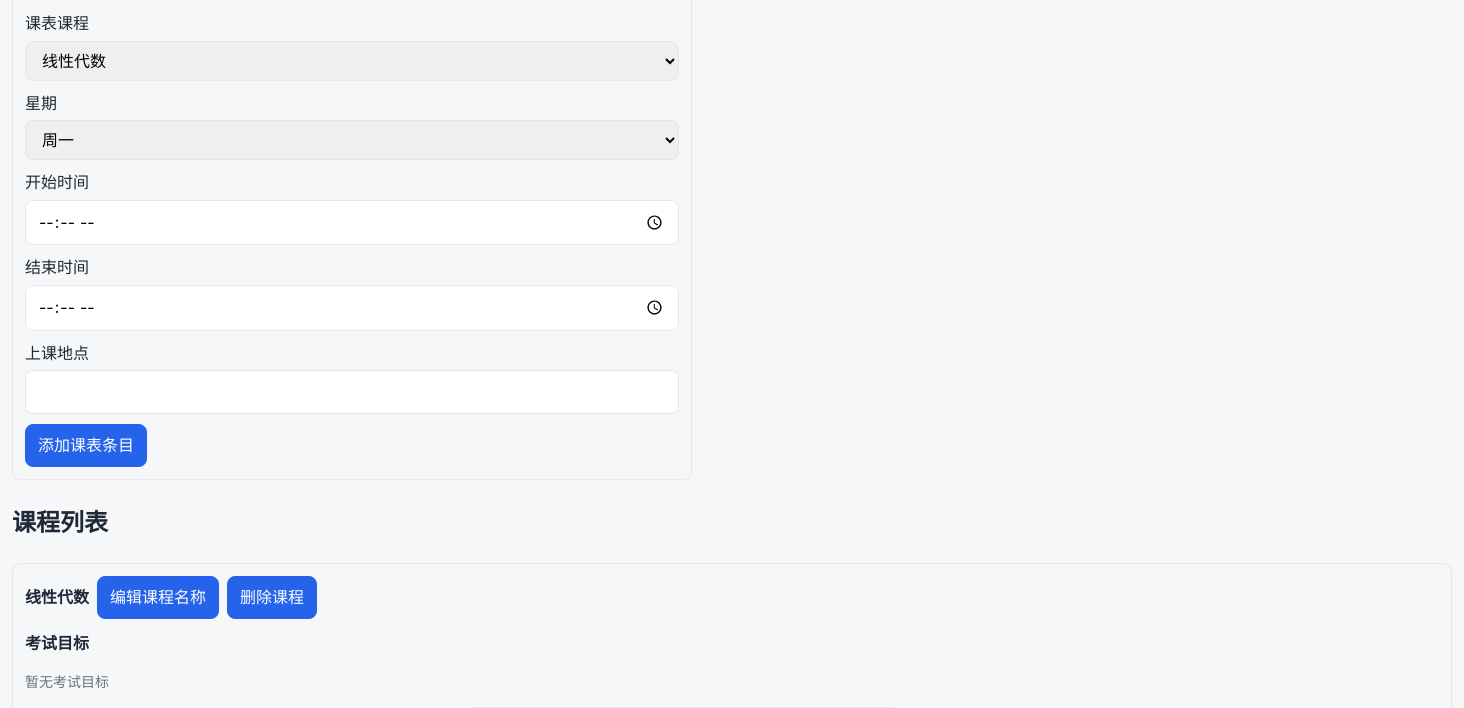
Test: CoursePage 课程删除 › 确认后在当前学期删除课程
The width and height of the screenshot is (1464, 708).
(page scrolled)
Click the button "删除课程": (272, 598) [227,576,317,619]
(page scrolled)
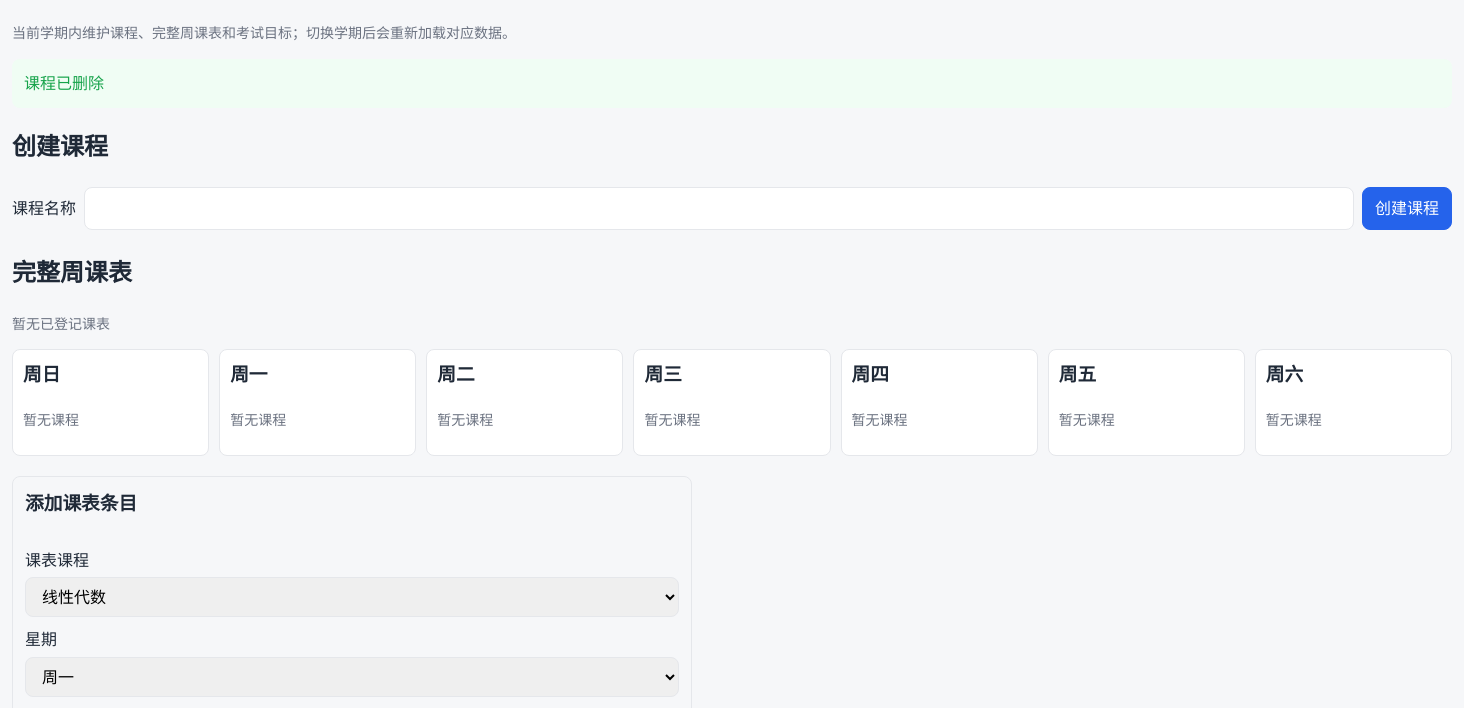
Now the text "课程已删除" is shown, box [12,59,1452,108]
